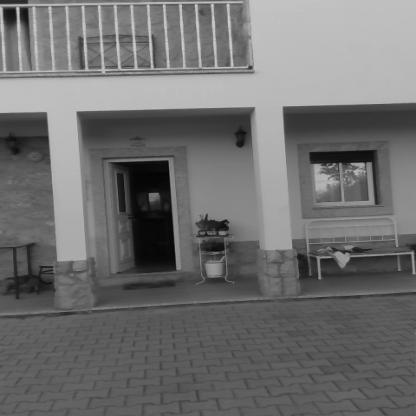open: (93, 151, 189, 299)
